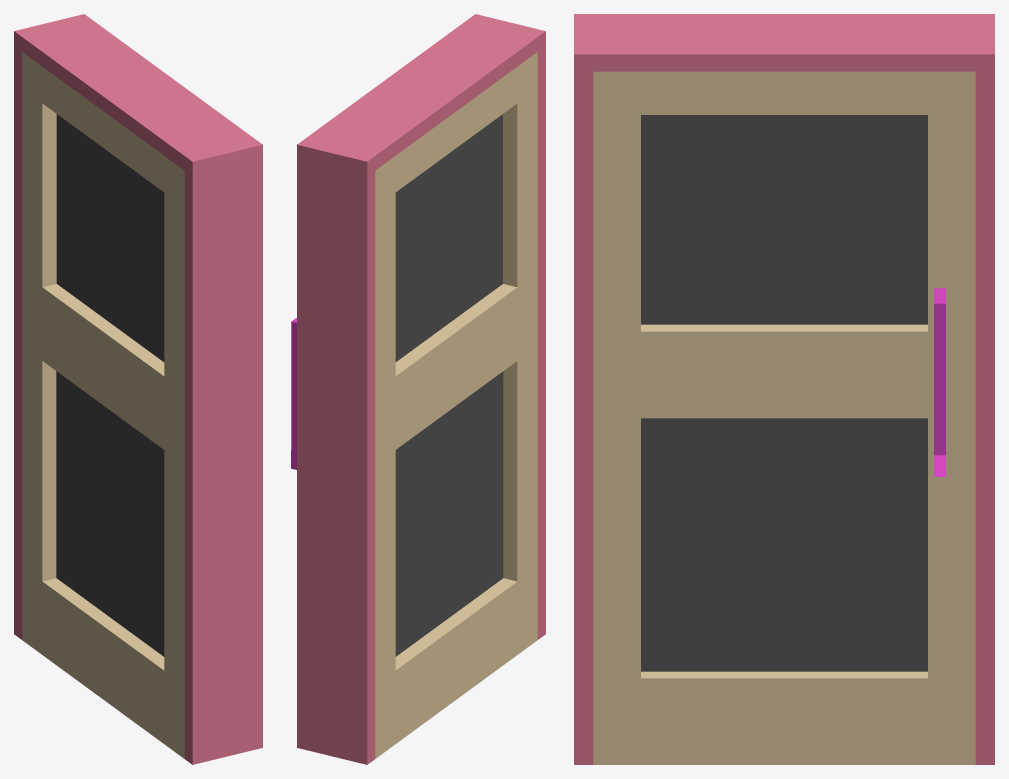
The model's file is door_frame.fbx.
3 renders of one model, left to right at view 1: azimuth 30°, elevation 25°; view 2: azimuth 150°, elevation 25°; view 3: azimuth 270°, elevation 25°, orthographic. The views are drawn at different scales.
Parts seen in each view (by area): view 1: Door, DoorFrame; view 2: Door, DoorFrame; view 3: Door, DoorFrame.
Part boxes in pixels (<box>): Door: <box>22,52,184,758</box>; DoorFrame: <box>14,14,262,764</box>; Door: <box>291,52,537,758</box>; DoorFrame: <box>297,14,545,764</box>; Door: <box>593,71,975,764</box>; DoorFrame: <box>574,14,994,764</box>.
Size of the model in its own units: 68.95 by 410 by 220.
